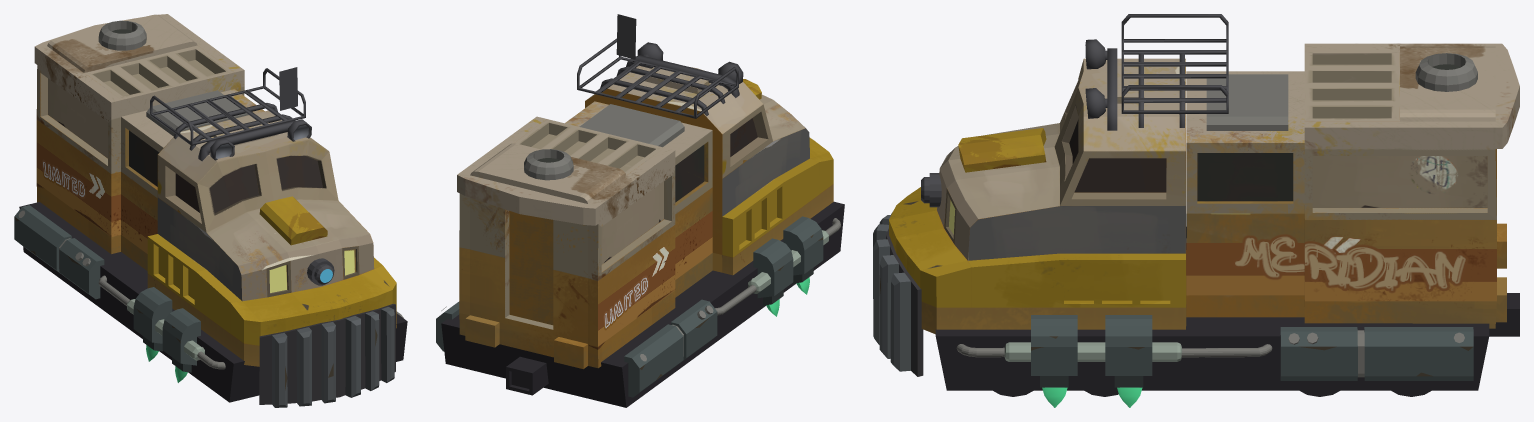
Rendered from mesh_eng_0.fbx.
The picture shows the model from 3 angles, left to right: view 1: azimuth 30°, elevation 25°; view 2: azimuth 150°, elevation 25°; view 3: azimuth 270°, elevation 25°; orthographic projection. The views are drawn at different scales.
Visible parts, largest first — view 1: eng_0_base, eng_0_com; view 2: eng_0_base, eng_0_com; view 3: eng_0_base, eng_0_com, eng_0_nozzle.
Part boxes in pixels (x1,y1,x2,y2): eng_0_base: (34,14,396,366); eng_0_com: (14,20,407,407); eng_0_base: (457,65,833,369); eng_0_com: (436,14,844,407); eng_0_base: (889,43,1519,334); eng_0_com: (873,14,1519,396); eng_0_nozzle: (1042,387,1142,407).
Bounding box in the file's own units: 400 × 488 × 842.
